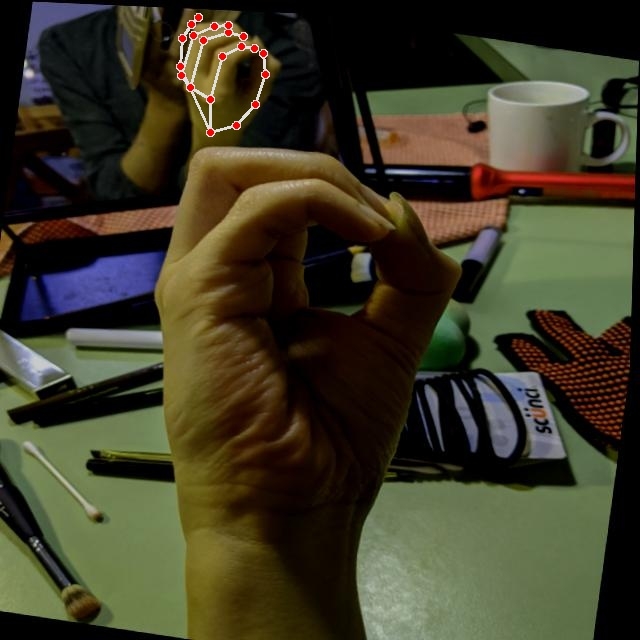O: (116, 121, 483, 578)
